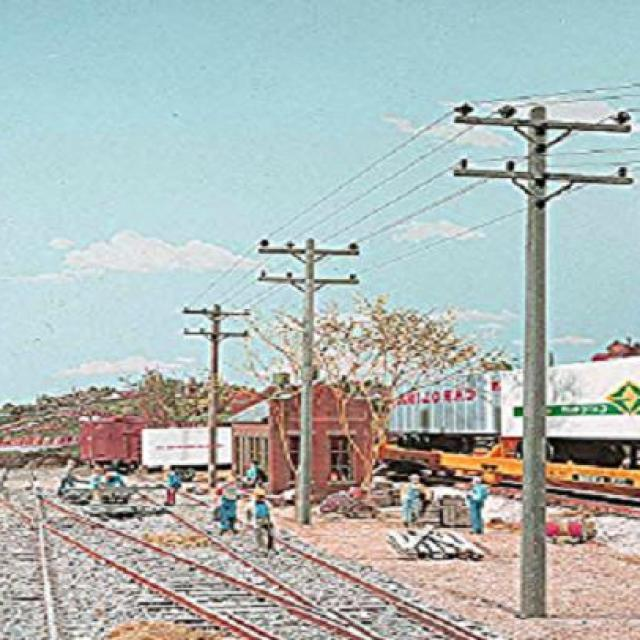non-critical vegetation: (446, 88, 637, 607), (251, 228, 369, 526), (184, 304, 256, 486)
